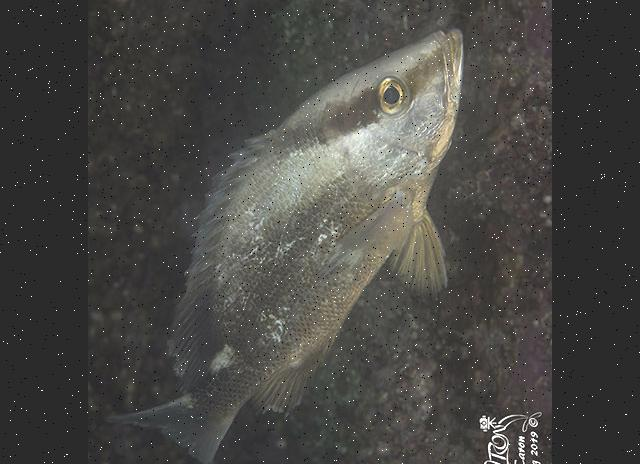Mulut: (422, 15, 476, 103)
Sirip Anal: (246, 350, 332, 412)
Sirip Dada: (316, 185, 418, 281)
Sirip Ekor: (99, 402, 239, 464)
Sirip Perut: (378, 225, 456, 303)
Sirip Punggung: (153, 122, 275, 378)
